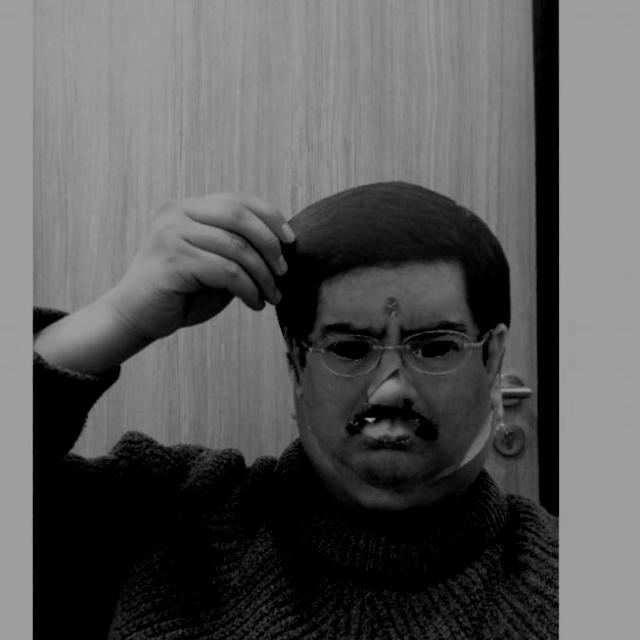fake: (265, 182, 513, 486)
